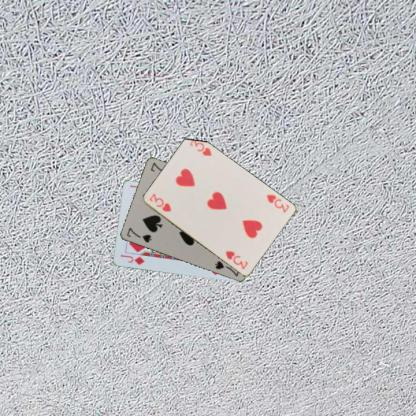3h: (146, 191, 172, 213), (264, 192, 290, 214)
7s: (124, 225, 152, 244)
Jd: (118, 252, 145, 266)
